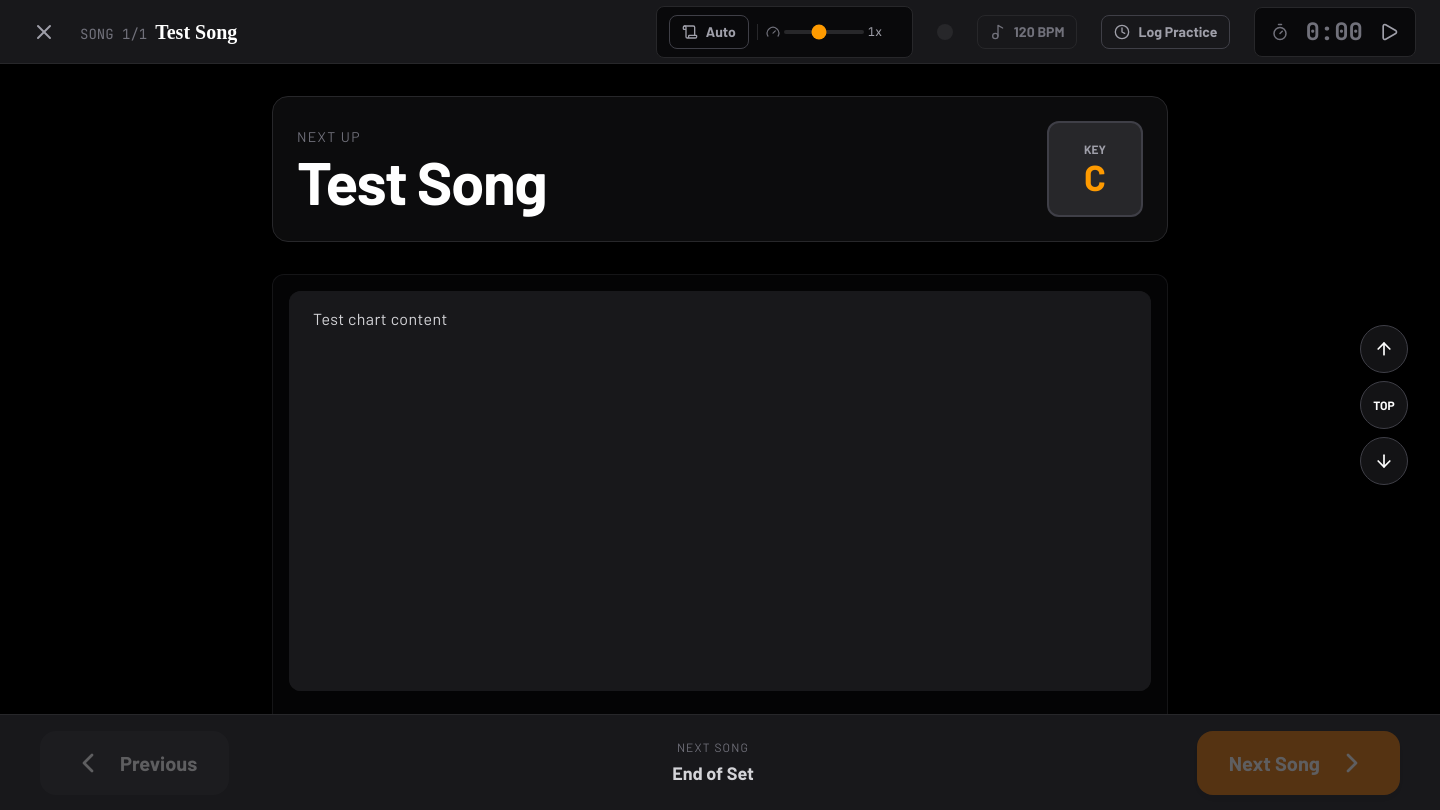
it: PerformanceMode - Practice Log Dialog › dialog open/close behavior › should close dialog when Cancel button clicked
The image size is (1440, 810).
// Open dialog
Click the button "Log Practice": {"x": 1166, "y": 32} [1102,14,1230,48]
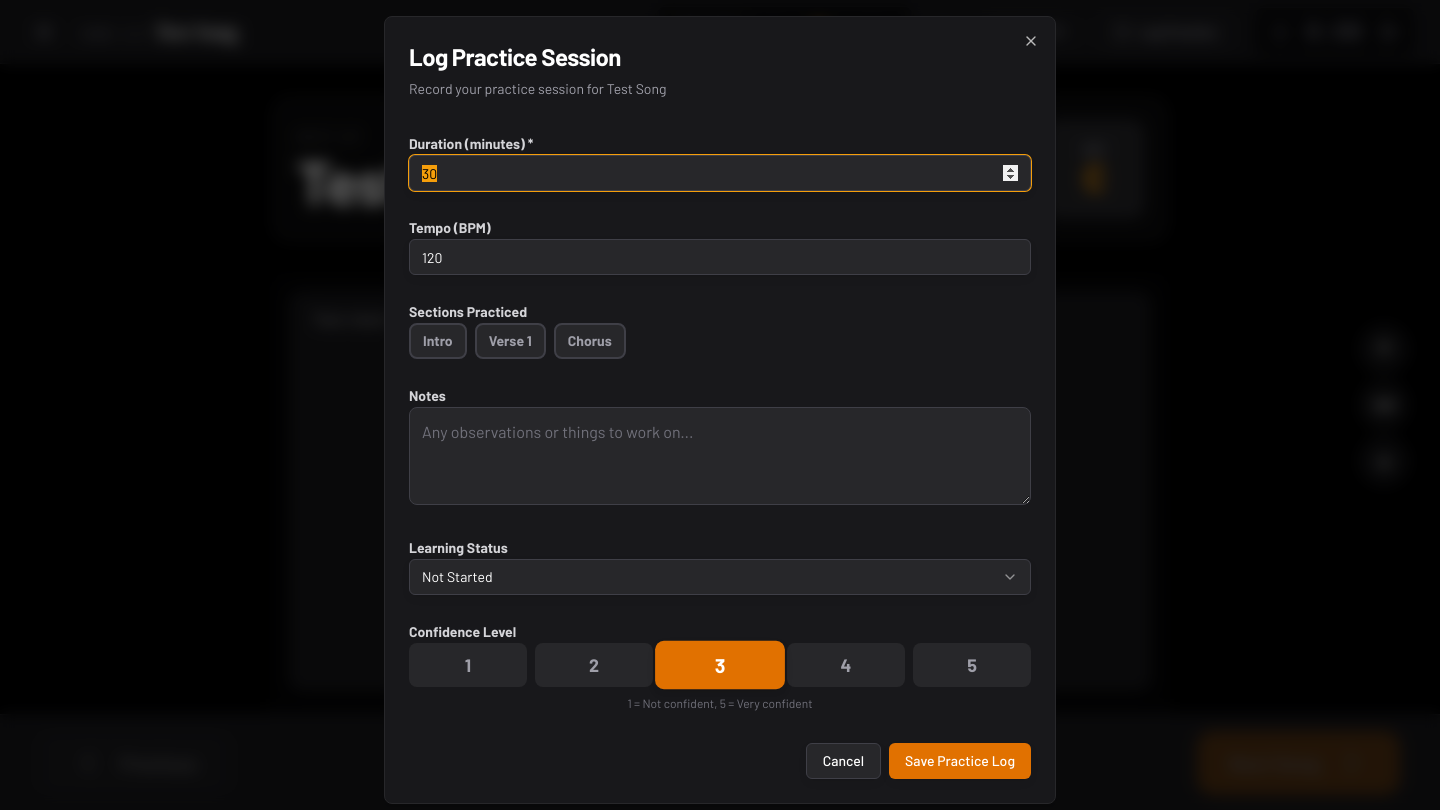
Result: the heading "Log Practice Session" is shown at [409,42,621,71]
// Close dialog
Click the button "Cancel": {"x": 843, "y": 761} [806,743,881,779]
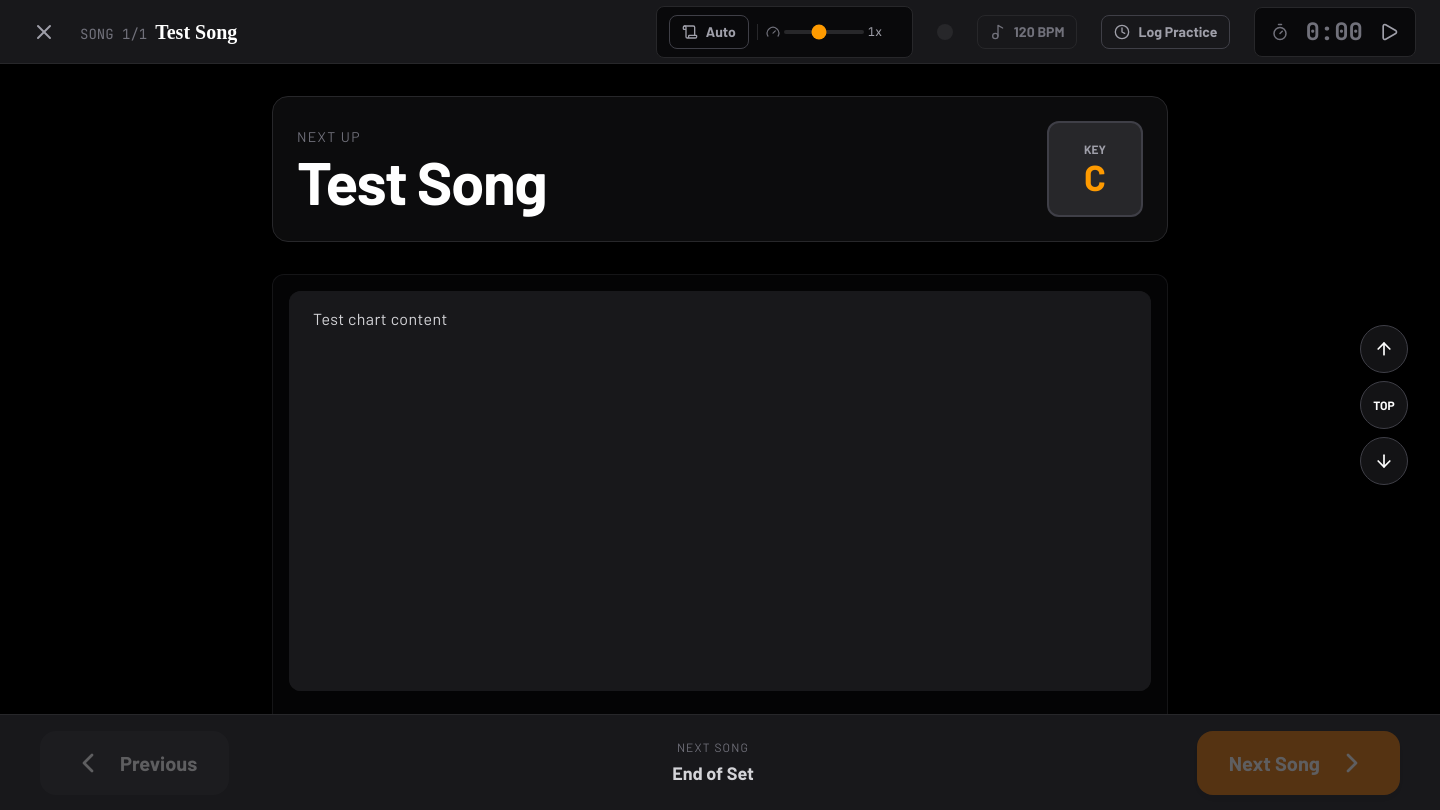
Result: the heading "Log Practice Session" is gone
